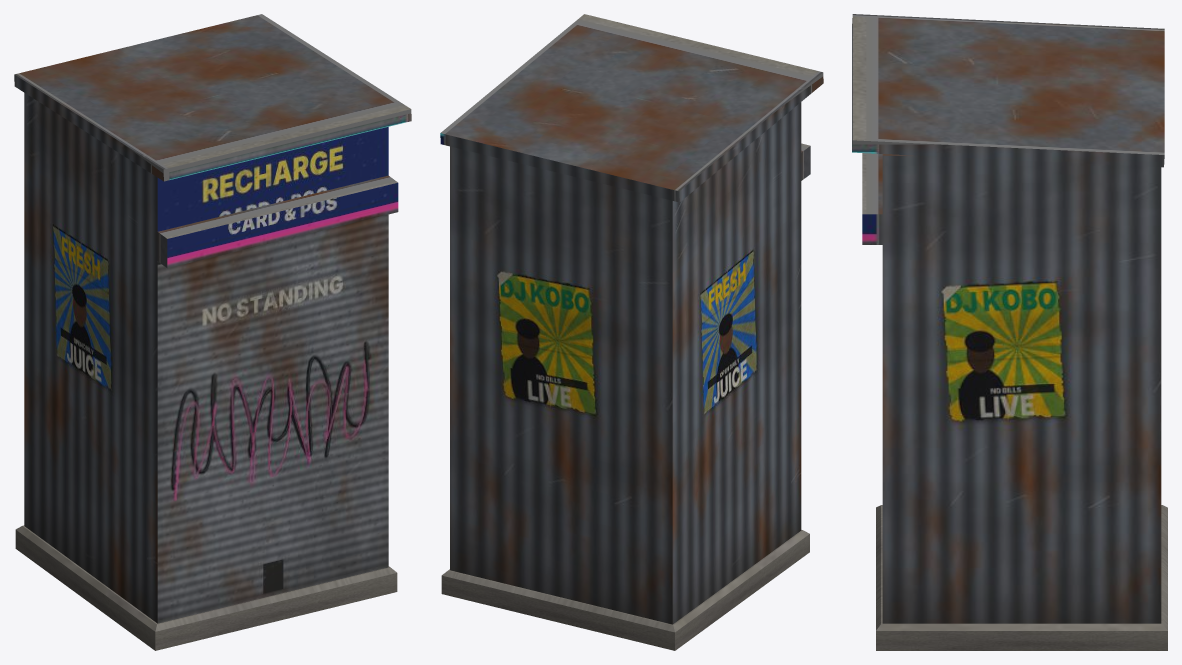
Rendered from prop_pillar_kiosk.glb.
3 views of the same model, side by side, from view 1: azimuth 30°, elevation 25°; view 2: azimuth 150°, elevation 25°; view 3: azimuth 270°, elevation 25° (orthographic). The views are drawn at different scales.
Visible parts, largest first — view 1: prop_pillar_kiosk_body; view 2: prop_pillar_kiosk_body; view 3: prop_pillar_kiosk_body.
Boxes of the visible parts, x1,y1,x2,y2 form: prop_pillar_kiosk_body: [14, 14, 411, 650]; prop_pillar_kiosk_body: [440, 14, 823, 650]; prop_pillar_kiosk_body: [852, 14, 1167, 650].
Bounding box in the file's own units: 0.88 × 1.66 × 0.9304.
1 material, 1 textured.
